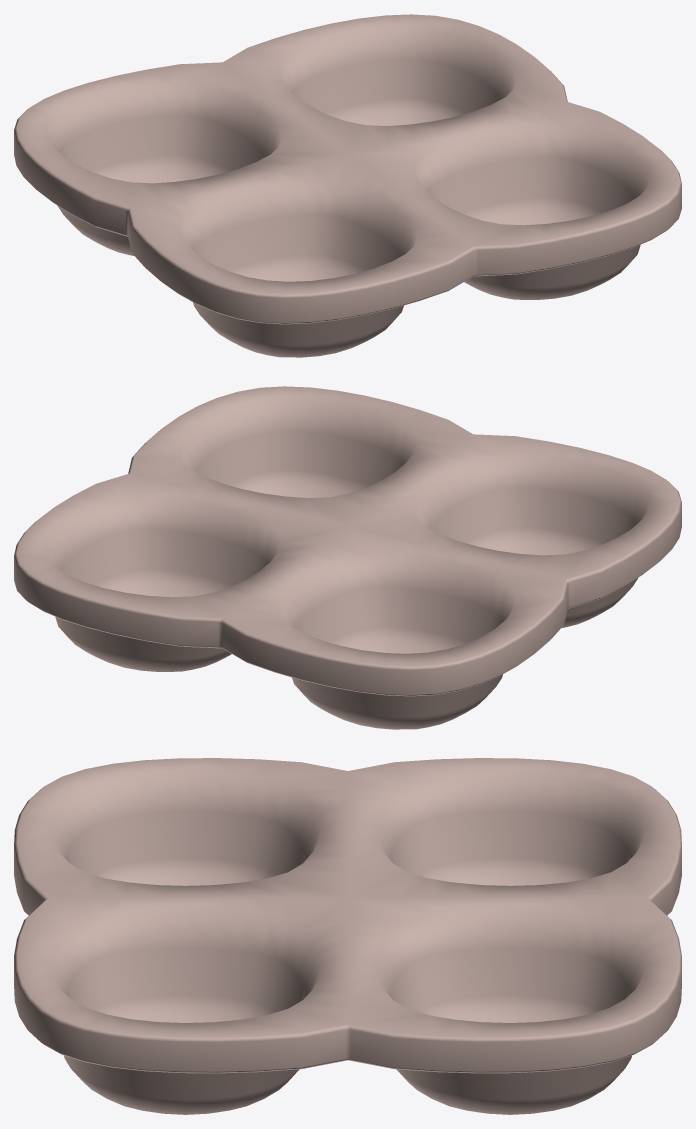
Rendered from Farm_14_Egg_Tray_1.glb.
The picture shows the model from 3 angles, top to bottom: view 1: azimuth 30°, elevation 25°; view 2: azimuth 150°, elevation 25°; view 3: azimuth 270°, elevation 25°; orthographic projection. The views are drawn at different scales.
Visible parts, largest first — view 1: Farm_14_Egg_Tray_1; view 2: Farm_14_Egg_Tray_1; view 3: Farm_14_Egg_Tray_1.
Boxes of the visible parts, bbox=[...] form: Farm_14_Egg_Tray_1: bbox=[14, 14, 681, 357]; Farm_14_Egg_Tray_1: bbox=[14, 386, 681, 729]; Farm_14_Egg_Tray_1: bbox=[14, 758, 681, 1114].
Size of the model in its own units: 0.435 by 0.0888 by 0.435.
Materials: 1 (1 with a texture image).
